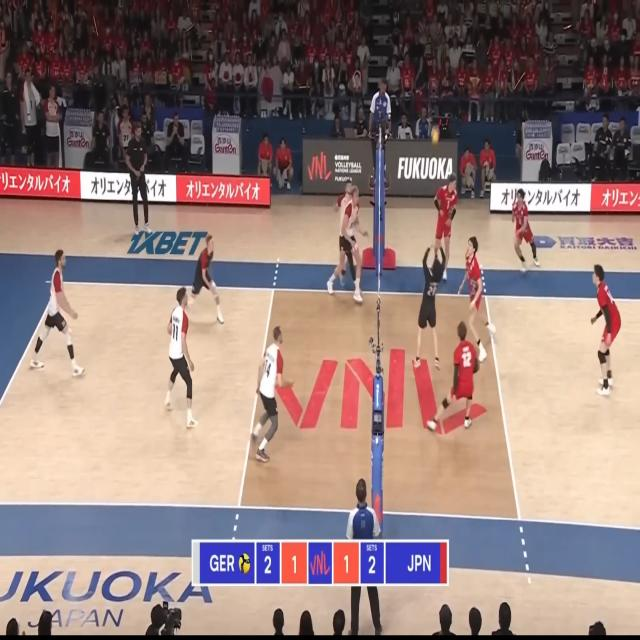ball: (431, 125, 440, 144)
